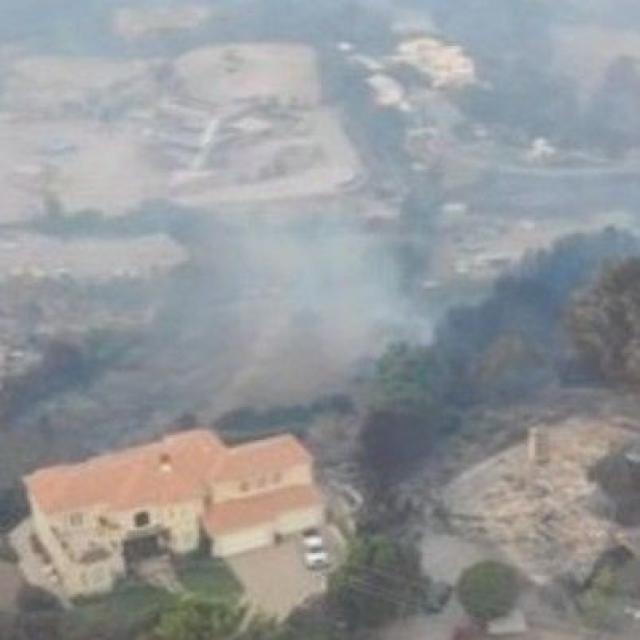Smoke: (186, 130, 494, 434)
